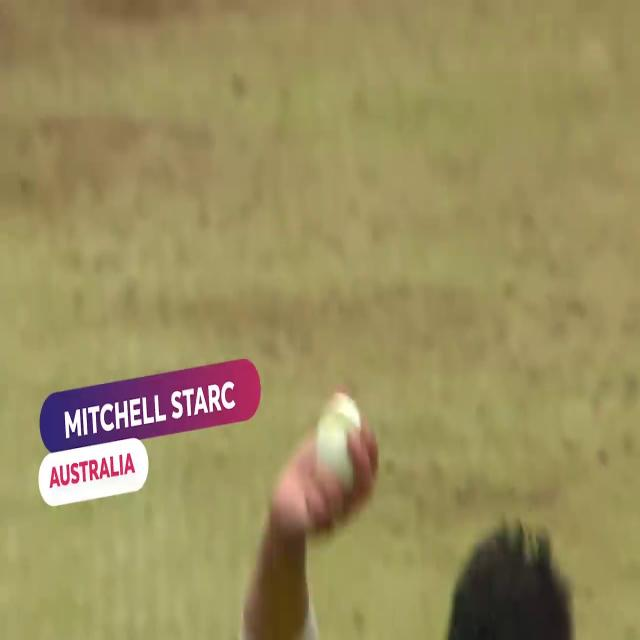ball: (302, 383, 386, 498)
